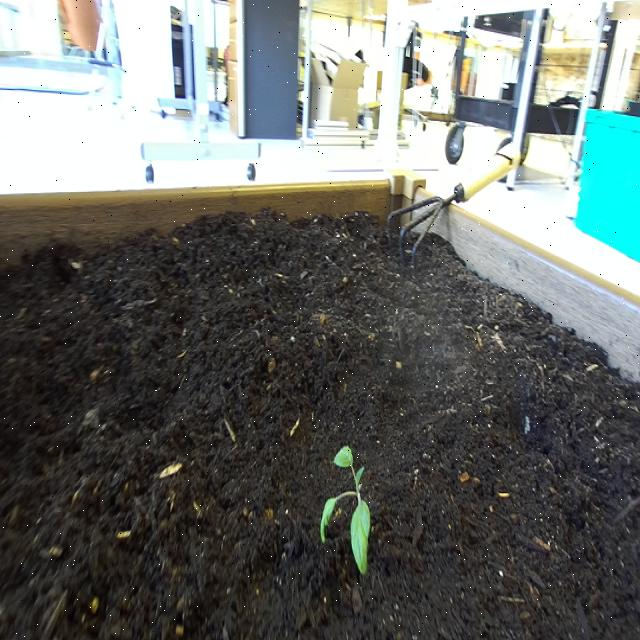Healthy: (317, 441, 377, 582)
